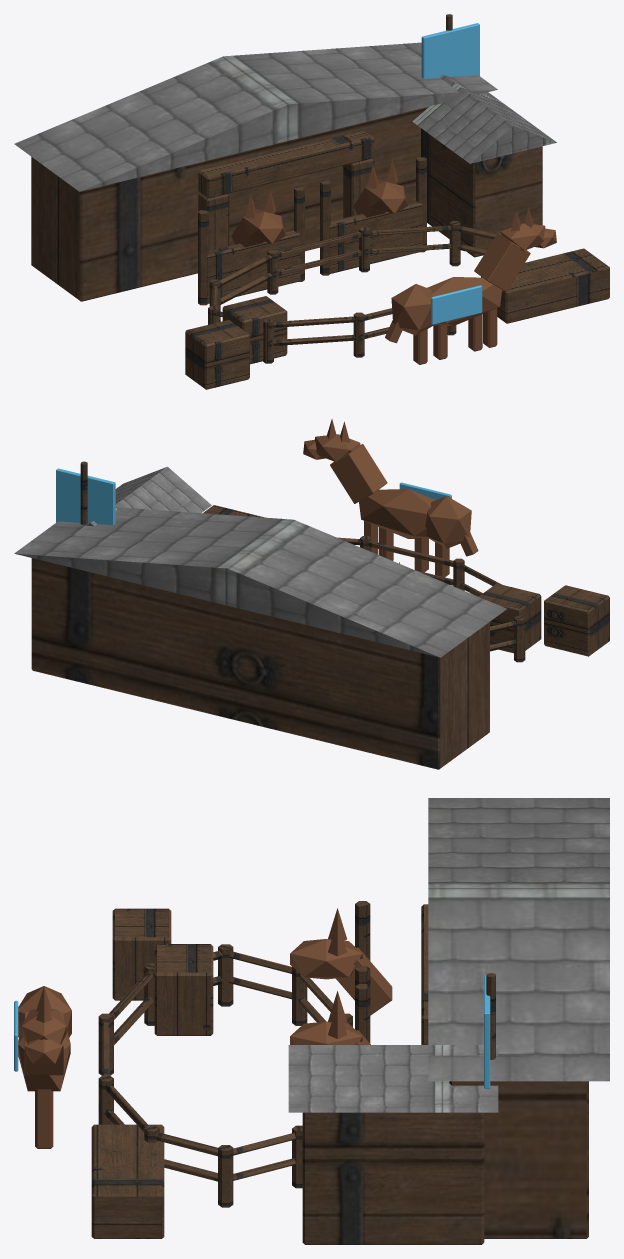
Rendered from edificio-b_017-e3-lod0-BidUp7Of.glb.
3 renders of one model, top to bottom at view 1: azimuth 30°, elevation 25°; view 2: azimuth 150°, elevation 25°; view 3: azimuth 270°, elevation 25°, orthographic. The views are drawn at different scales.
Visible parts, largest first — view 1: envolvente_establo, caballos_establo, team_color; view 2: envolvente_establo, caballos_establo, team_color; view 3: envolvente_establo, caballos_establo, team_color.
Part boxes in pixels (box(x1,y1,x2,y2)): envolvente_establo: box(14, 14, 609, 389); caballos_establo: box(231, 159, 556, 364); team_color: box(421, 23, 482, 324); envolvente_establo: box(14, 461, 609, 769); caballos_establo: box(303, 419, 478, 577); team_color: box(56, 468, 451, 525); envolvente_establo: box(91, 798, 609, 1244); caballos_establo: box(18, 908, 392, 1148); team_color: box(14, 975, 490, 1088).
Bounding box in the file's own units: 49 × 20 × 42.66.
3 materials, 1 textured.
